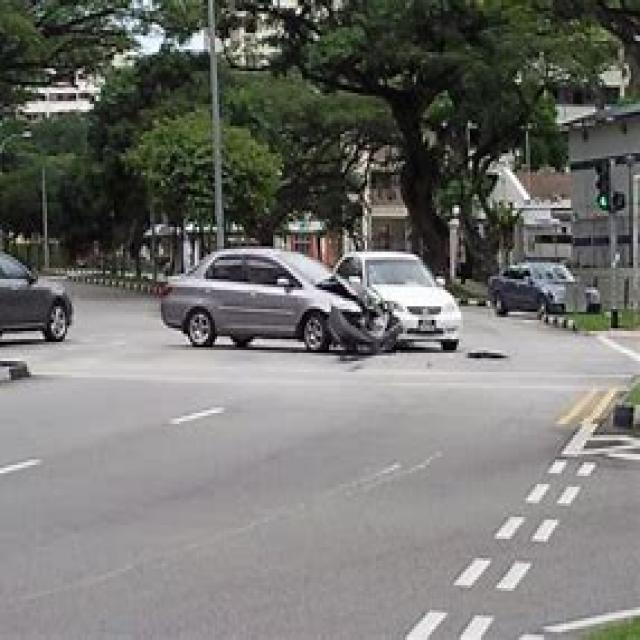Accident: (130, 141, 489, 412)
